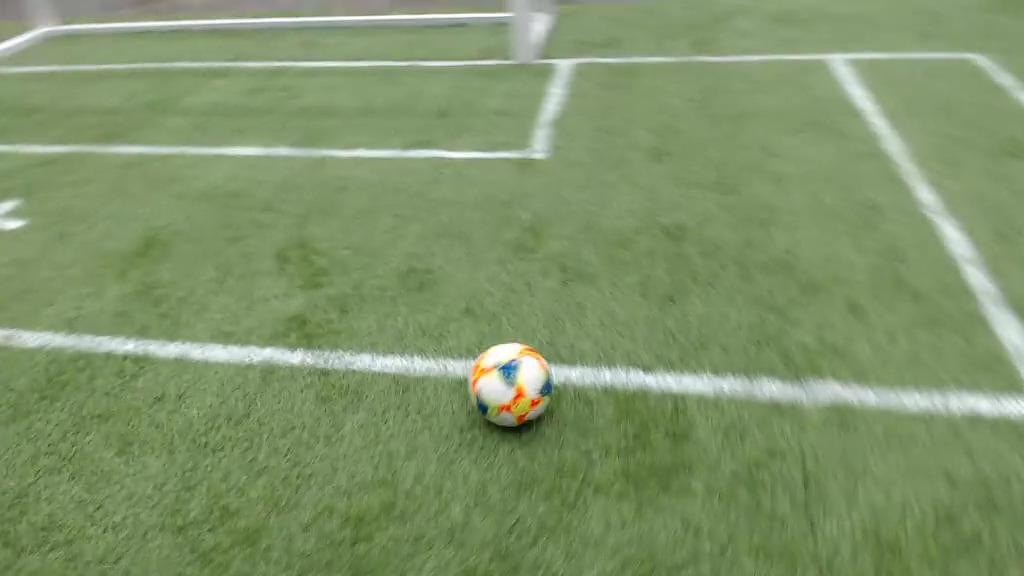ball: (470, 340, 552, 428)
